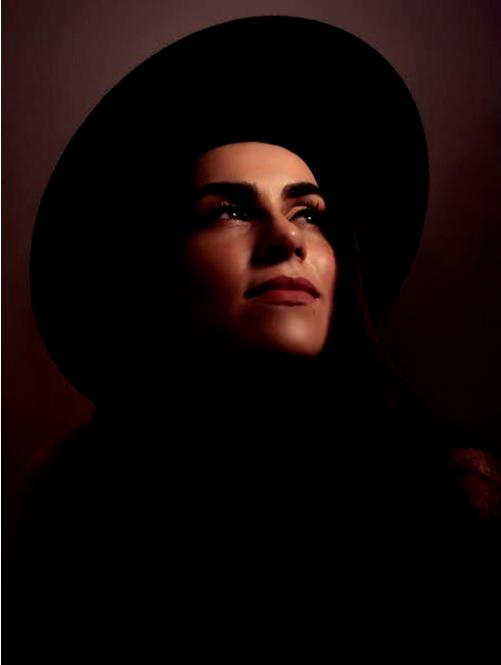face: (180, 143, 337, 358)
